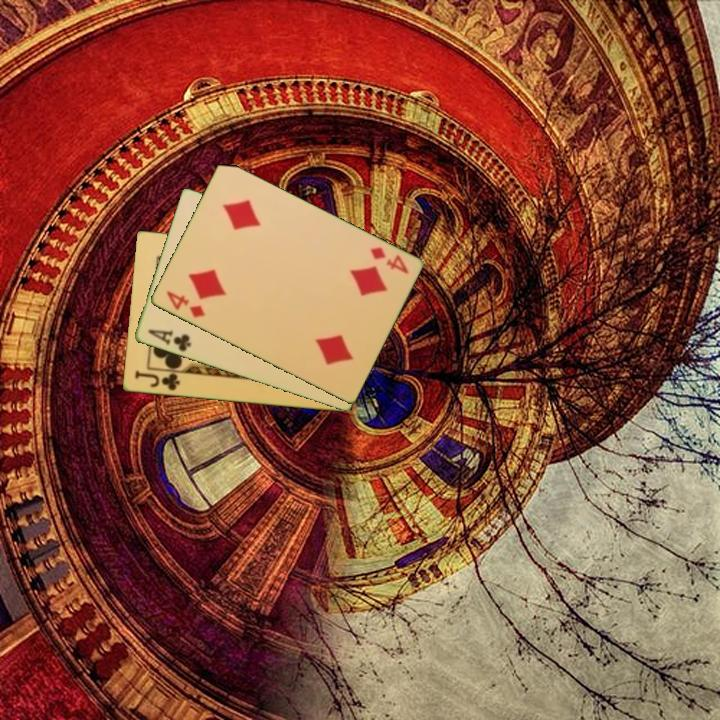4d: (162, 287, 208, 321), (366, 243, 411, 277)
Ac: (144, 326, 194, 355)
Jc: (131, 367, 182, 394)
